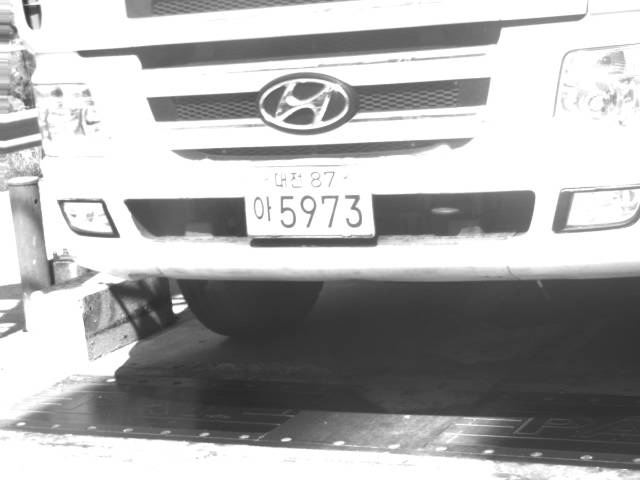car: (9, 1, 639, 337)
plate: (242, 163, 378, 239)
